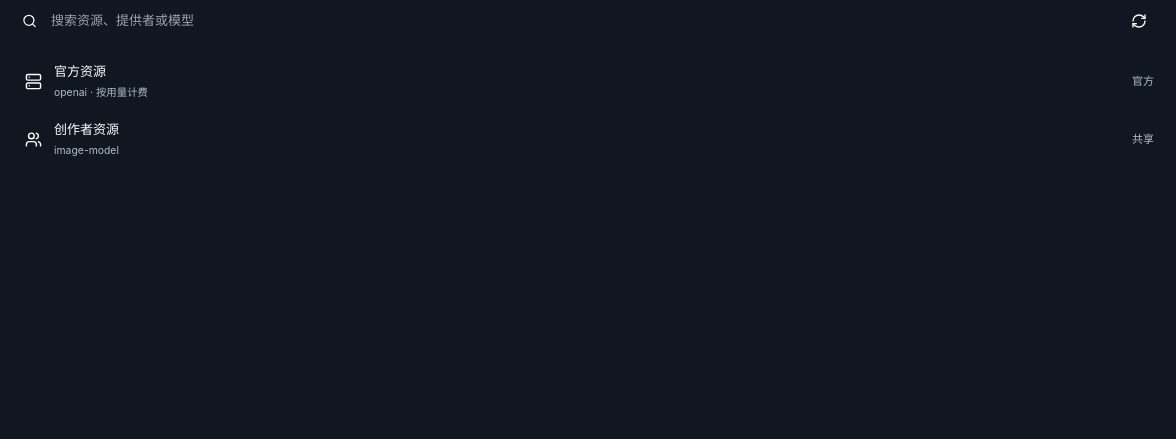
it: unified resource selection › reconciles a timed-out join instead of repeating the write
Click the button "创作者资源 image-model 共享". click: click(87, 129)
box: left=12, top=110, right=1164, bottom=168
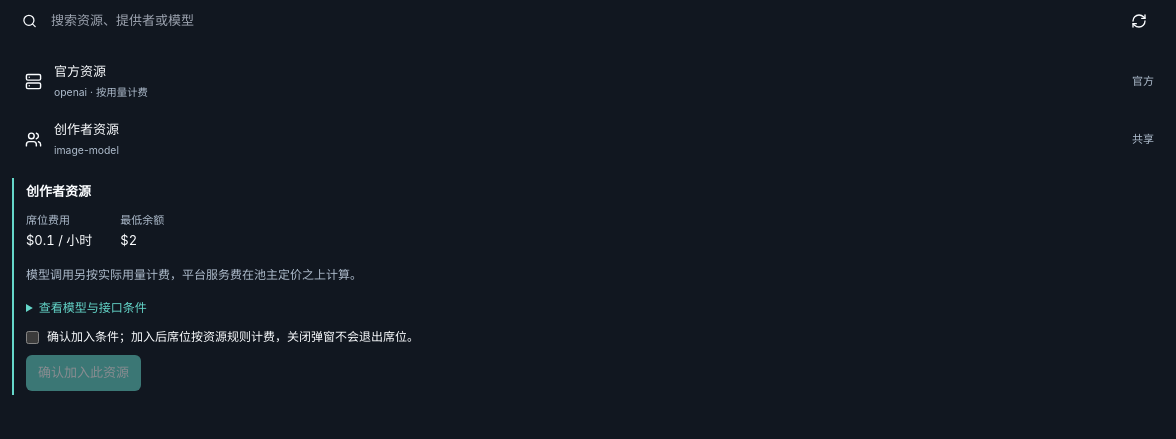
Click the checkbox labelled "确认加入条件；加入后席位按资源规则计费，关闭弹窗不会退出席位。". click: click(32, 338)
box: left=26, top=331, right=39, bottom=344
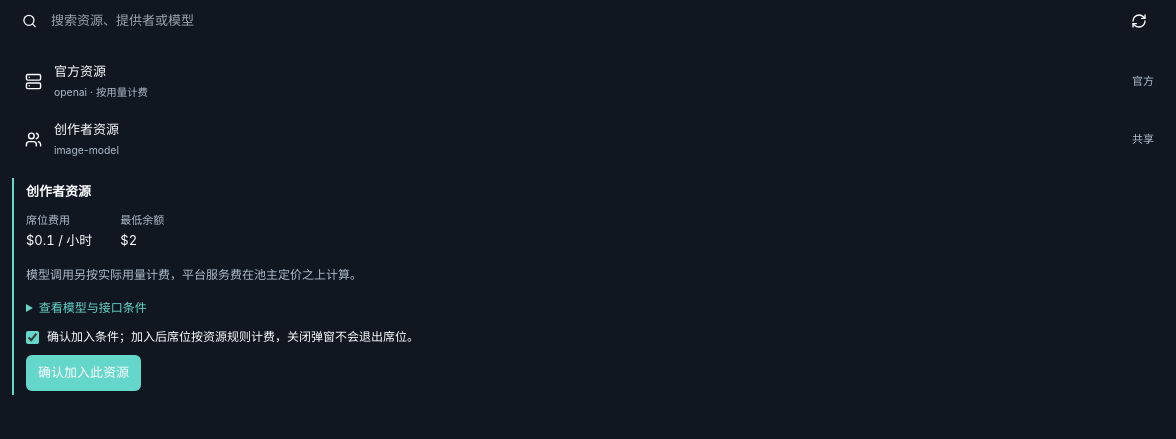
Click the button "确认加入此资源". click: click(84, 373)
box: left=26, top=356, right=141, bottom=391
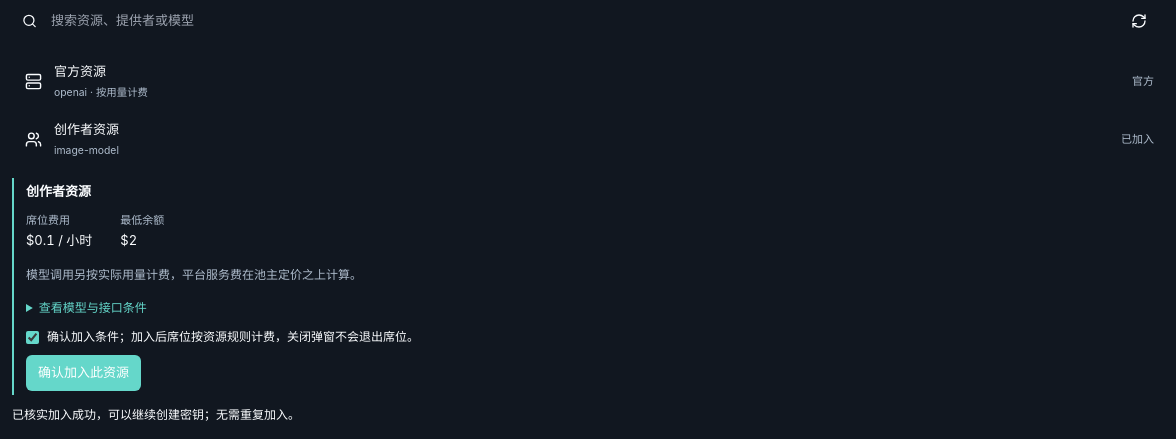
expect the text "无需重复加入" is shown: met, box left=12, top=407, right=300, bottom=422
